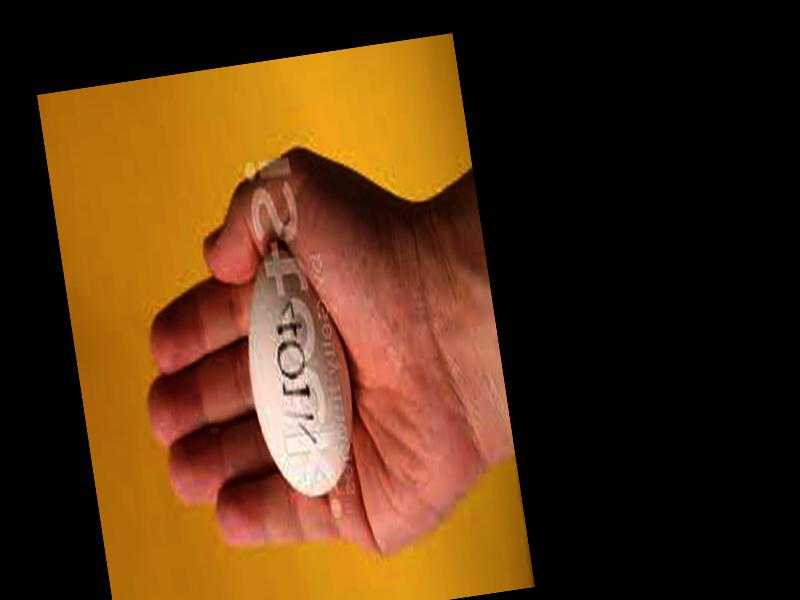Eggs: (232, 240, 364, 503)
